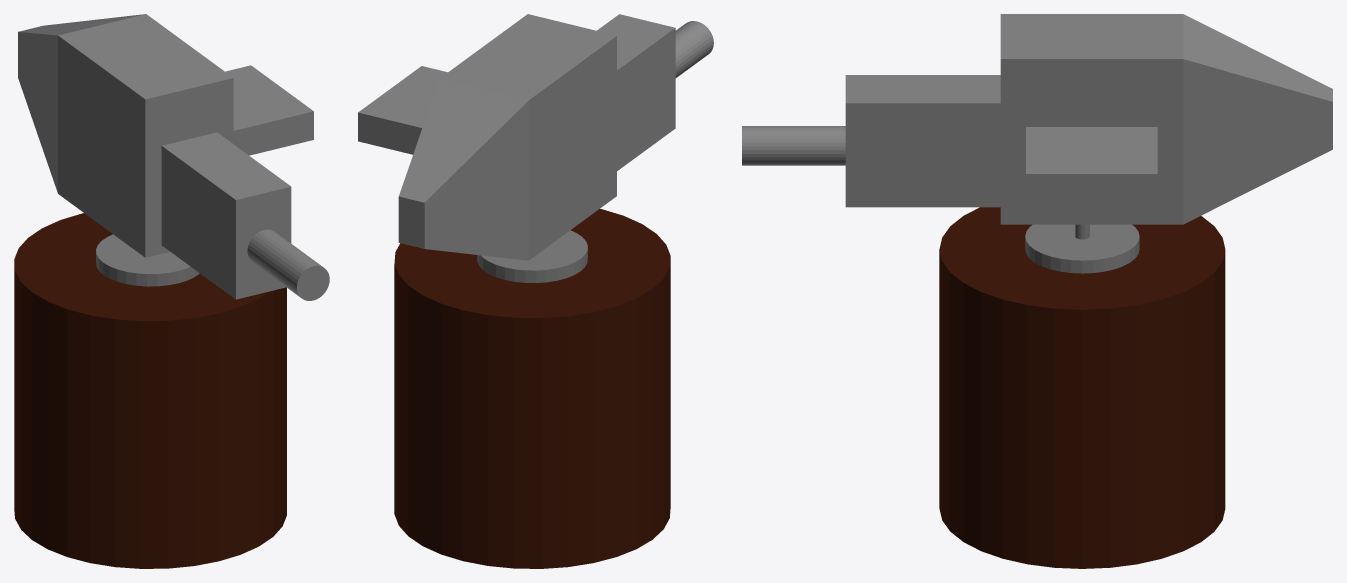
The model's file is turret.glb.
3 views of the same model, side by side, from view 1: azimuth 30°, elevation 25°; view 2: azimuth 150°, elevation 25°; view 3: azimuth 270°, elevation 25° (orthographic). The views are drawn at different scales.
Visible parts, largest first — view 1: Base, Cannon, Cannon Support; view 2: Base, Cannon, Cannon Support; view 3: Base, Cannon, Cannon Support.
Part boxes in pixels (x1,y1,x2,y2): Base: [14, 213, 286, 568]; Cannon: [18, 14, 329, 300]; Cannon Support: [96, 234, 199, 286]; Base: [394, 209, 670, 568]; Cannon: [358, 14, 713, 260]; Cannon Support: [477, 230, 587, 282]; Base: [939, 207, 1225, 568]; Cannon: [742, 14, 1332, 224]; Cannon Support: [1025, 224, 1139, 273].
Bounding box in the file's own units: 1.08 × 1.82 × 2.07.
